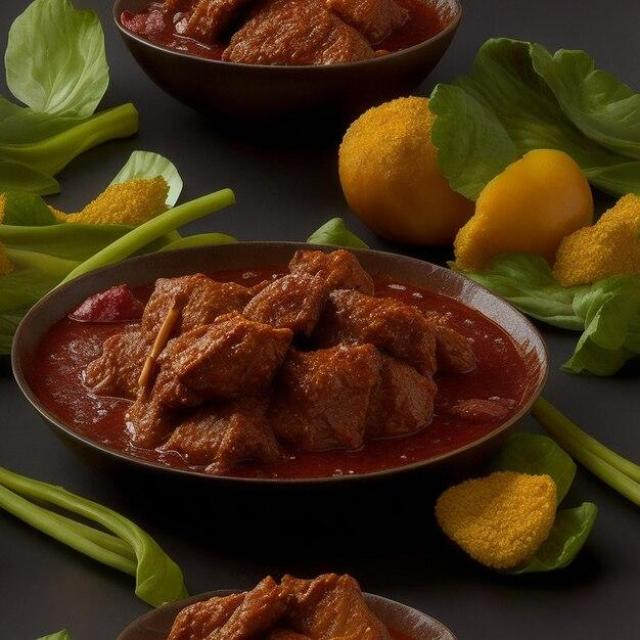Rendang: (82, 255, 520, 472)
